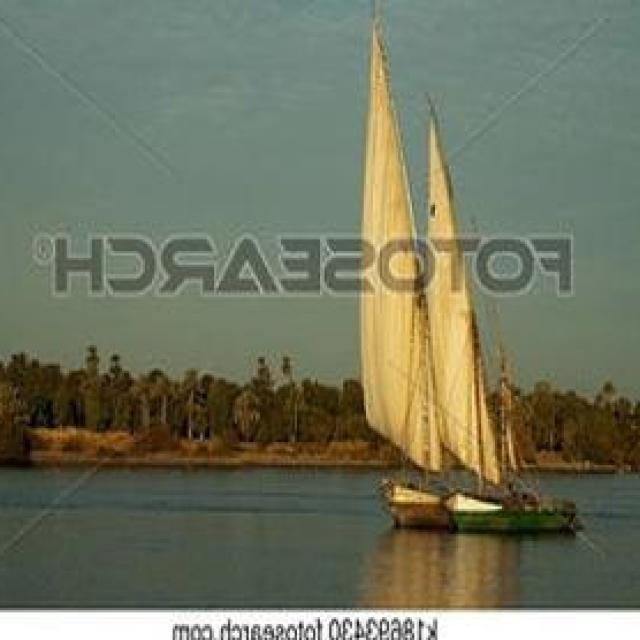sailboat: (359, 6, 599, 532)
